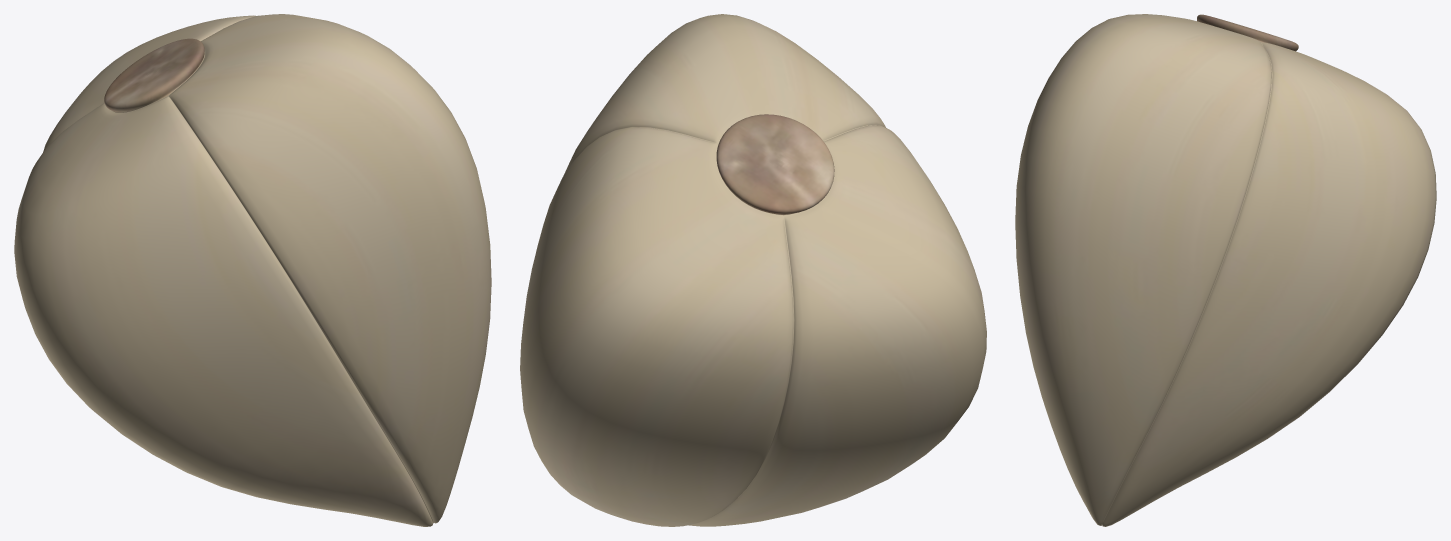
The model's file is GrainBuckwheat003.obj.
The picture shows the model from 3 angles, left to right: view 1: azimuth 30°, elevation 25°; view 2: azimuth 150°, elevation 25°; view 3: azimuth 270°, elevation 25°; orthographic projection. The views are drawn at different scales.
Visible parts, largest first — view 1: GrainBuckwheat003; view 2: GrainBuckwheat003; view 3: GrainBuckwheat003.
Part boxes in pixels (left/top/right/bottom): GrainBuckwheat003: left=14, top=14, right=491, bottom=526; GrainBuckwheat003: left=520, top=14, right=986, bottom=526; GrainBuckwheat003: left=1015, top=14, right=1436, bottom=526.
Bounding box in the file's own units: 0.0261 × 0.0311 × 0.0258.
1 material, 1 textured.
